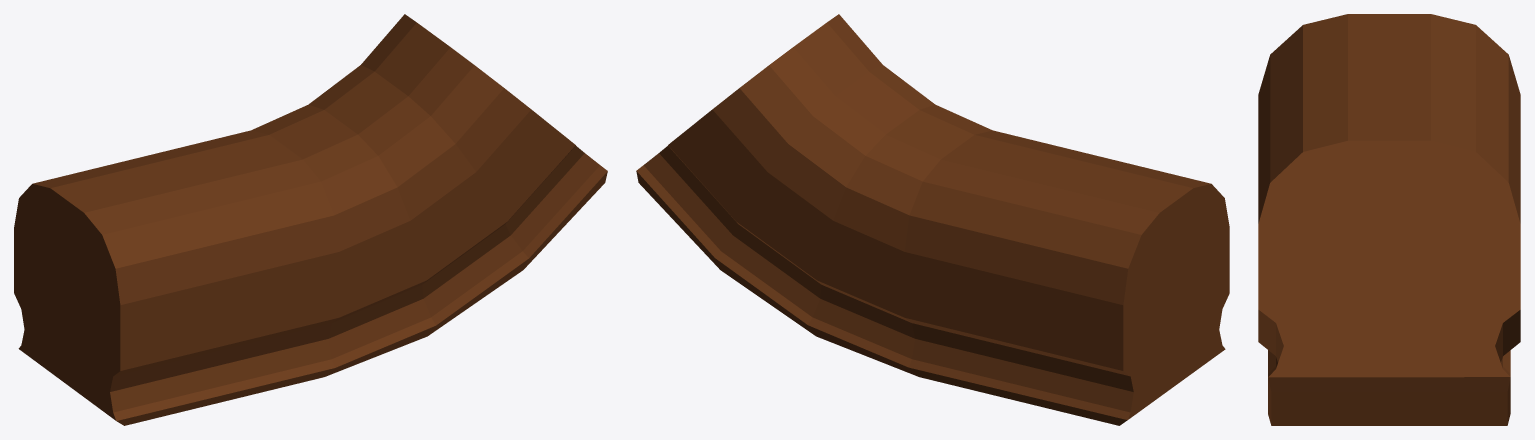
The model's file is Rambarde_escalier_monte.fbx.
3 views of the same model, side by side, from view 1: azimuth 30°, elevation 25°; view 2: azimuth 150°, elevation 25°; view 3: azimuth 270°, elevation 25° (orthographic). The views are drawn at different scales.
Parts seen in each view (by area): view 1: Rambarde Escalier monte; view 2: Rambarde Escalier monte; view 3: Rambarde Escalier monte.
Boxes of the visible parts, x1,y1,x2,y2 form: Rambarde Escalier monte: (14,14,607,425); Rambarde Escalier monte: (636,14,1229,425); Rambarde Escalier monte: (1258,14,1520,425).
Size of the model in its own units: 73.09 by 38.22 by 27.38.
